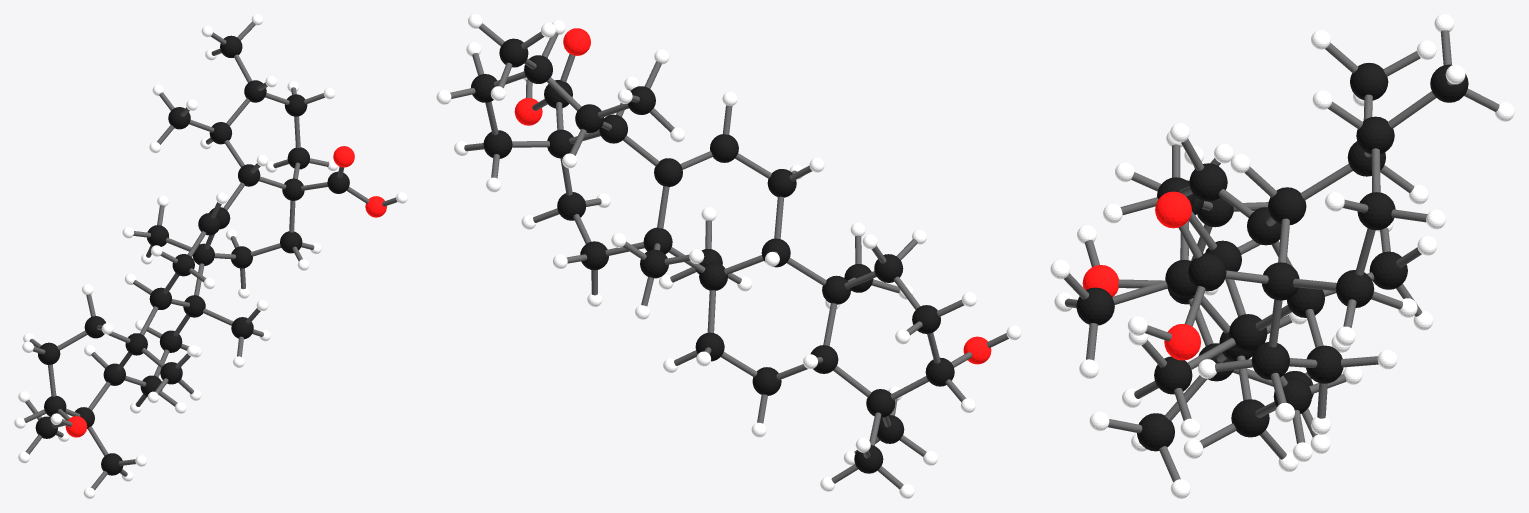
The model's file is molecule.glb.
3 views of the same model, side by side, from view 1: azimuth 30°, elevation 25°; view 2: azimuth 150°, elevation 25°; view 3: azimuth 270°, elevation 25° (orthographic). The views are drawn at different scales.
Visible parts, largest first — view 1: no part large enough to name; view 2: geometry_3, geometry_4, geometry_17, geometry_19, geometry_5, geometry_7, geometry_32, geometry_22, geometry_13, geometry_24, geometry_1, geometry_11 (+1 smaller); view 3: geometry_26, geometry_15, geometry_4, geometry_0, geometry_31, geometry_8, geometry_2, geometry_22, geometry_27, geometry_24, geometry_25, geometry_29 (+17 smaller).
Part boxes in pixels (x1,y1,x2,y2): geometry_3: (654,158,682,186); geometry_4: (710,134,738,162); geometry_17: (752,367,781,395); geometry_19: (699,262,727,290); geometry_5: (767,169,796,197); geometry_7: (822,275,850,304); geometry_32: (499,38,528,67); geometry_22: (640,249,668,278); geometry_13: (866,389,895,417); geometry_24: (557,192,586,220); geometry_1: (575,104,604,132); geometry_11: (925,357,954,386); geometry_26: (1188,253,1226,291); geometry_15: (1137,413,1174,451); geometry_4: (1189,163,1227,201); geometry_0: (1350,63,1388,100); geometry_31: (1356,116,1394,154); geometry_8: (1076,287,1114,325); geometry_2: (1268,187,1306,224); geometry_22: (1369,251,1407,289); geometry_27: (1155,191,1191,228); geometry_24: (1251,342,1289,379); geometry_25: (1262,262,1299,300); geometry_29: (1336,270,1374,307).
Size of the model in its own units: 0.257 by 0.2384 by 0.1634.
